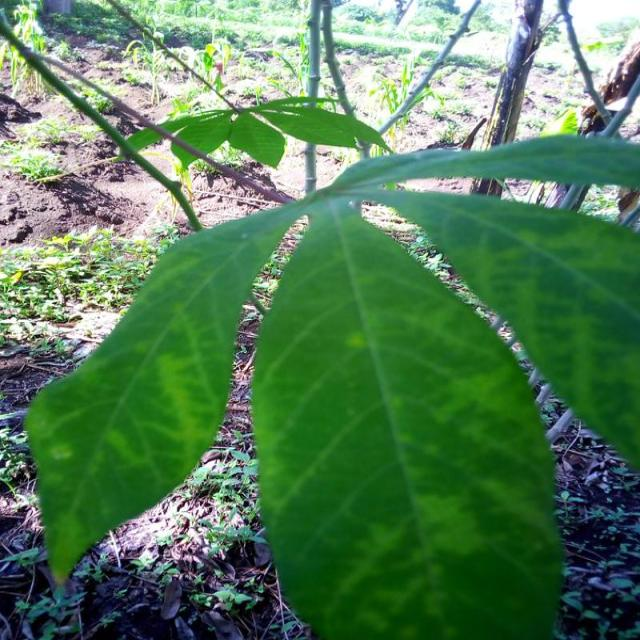cassava leaf: (21, 116, 636, 590), (250, 195, 565, 638)
